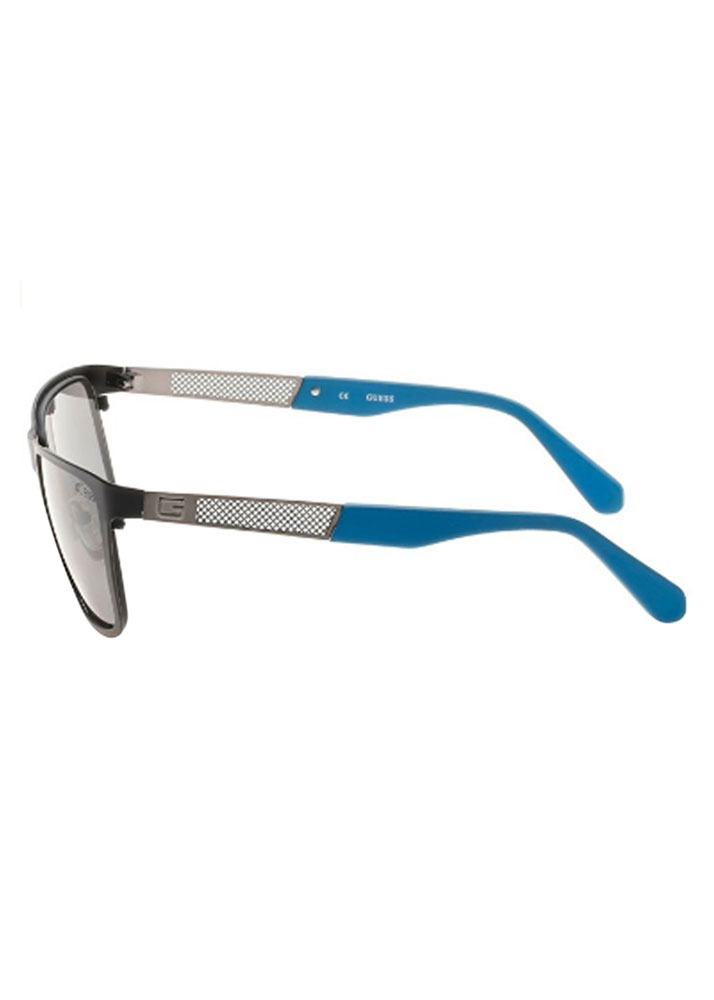Guess: (359, 385, 398, 409)
